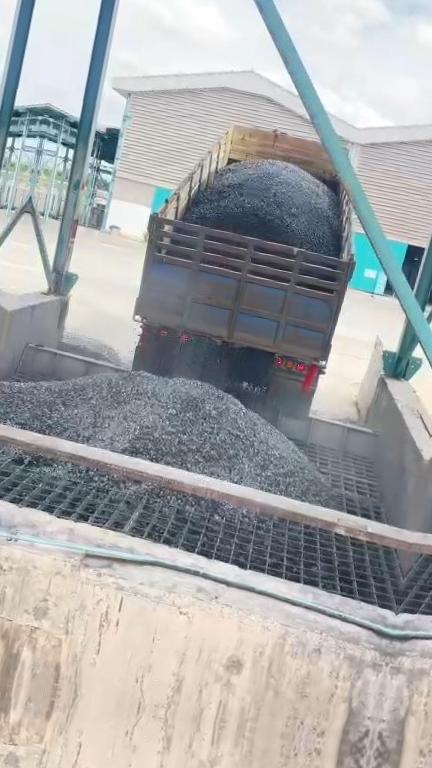gravel: (0, 372, 329, 503), (184, 159, 341, 256), (33, 457, 265, 521), (58, 330, 127, 366)
